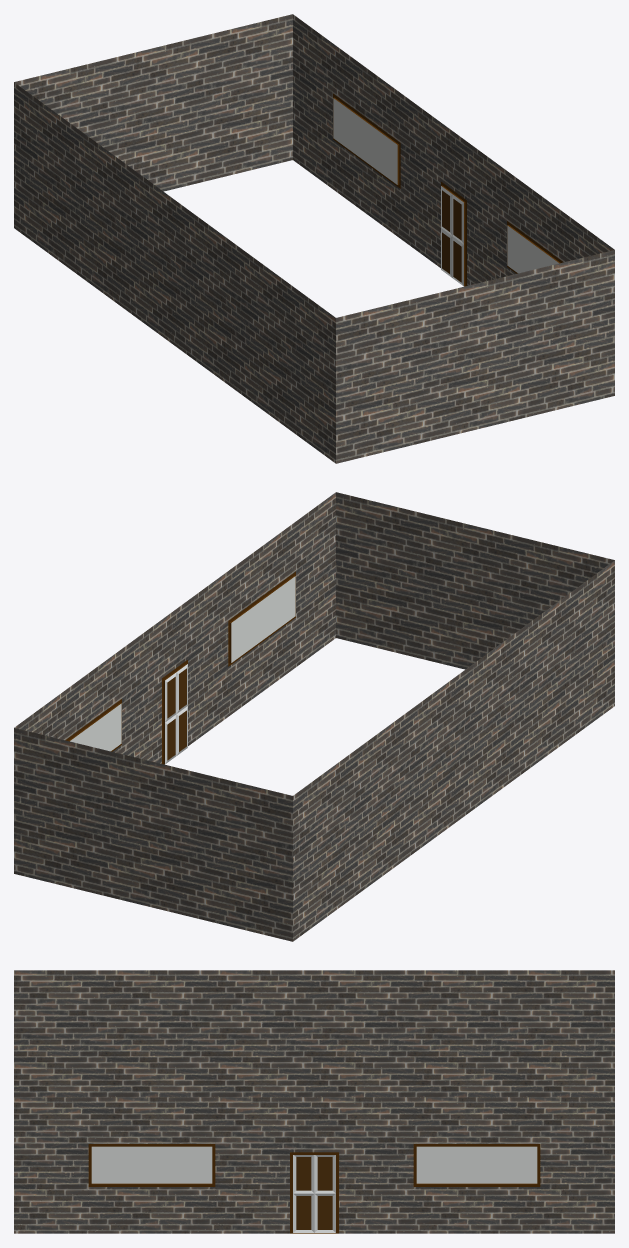
File: Planta Baja.fbx
The picture shows the model from 3 angles, top to bottom: view 1: azimuth 30°, elevation 25°; view 2: azimuth 150°, elevation 25°; view 3: azimuth 270°, elevation 25°; orthographic projection. The views are drawn at different scales.
Parts seen in each view (by area): view 1: building_003; view 2: building_003; view 3: building_003.
Boxes of the visible parts, x1,y1,x2,y2 form: building_003: (14,14,614,463); building_003: (14,492,614,941); building_003: (14,970,614,1233).
Size of the model in its own units: 1000 by 500 by 2000.
2 materials, 2 textured.
